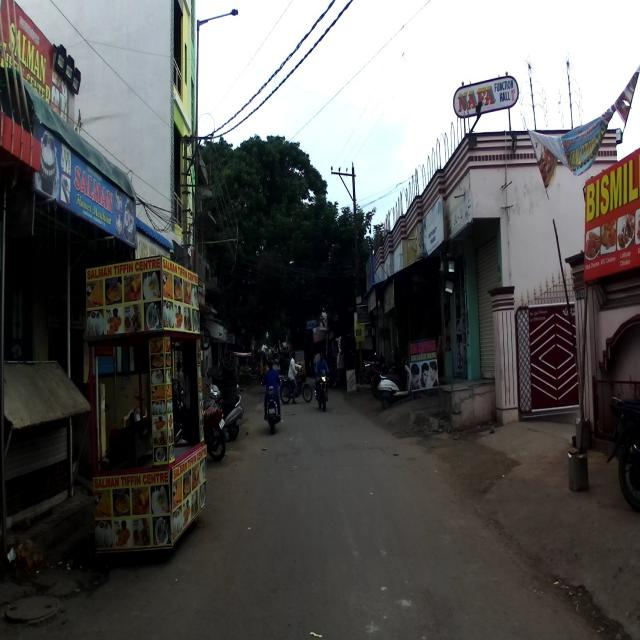motorcycle_Hero: (173, 387, 229, 464)
motorcycle_bajaj: (260, 373, 284, 438), (311, 361, 334, 412)
scooter: (202, 370, 243, 444), (376, 360, 418, 410)
